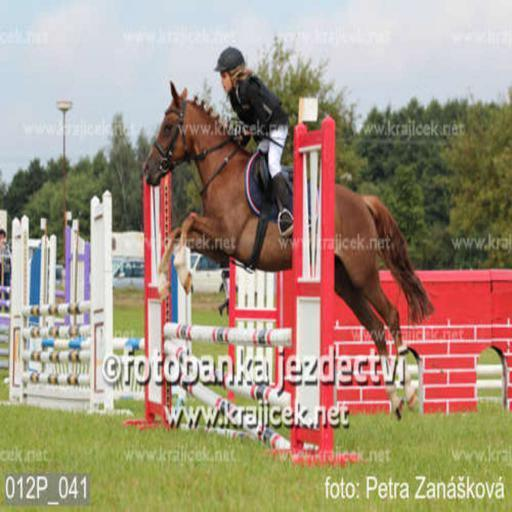horse: (140, 74, 436, 424)
